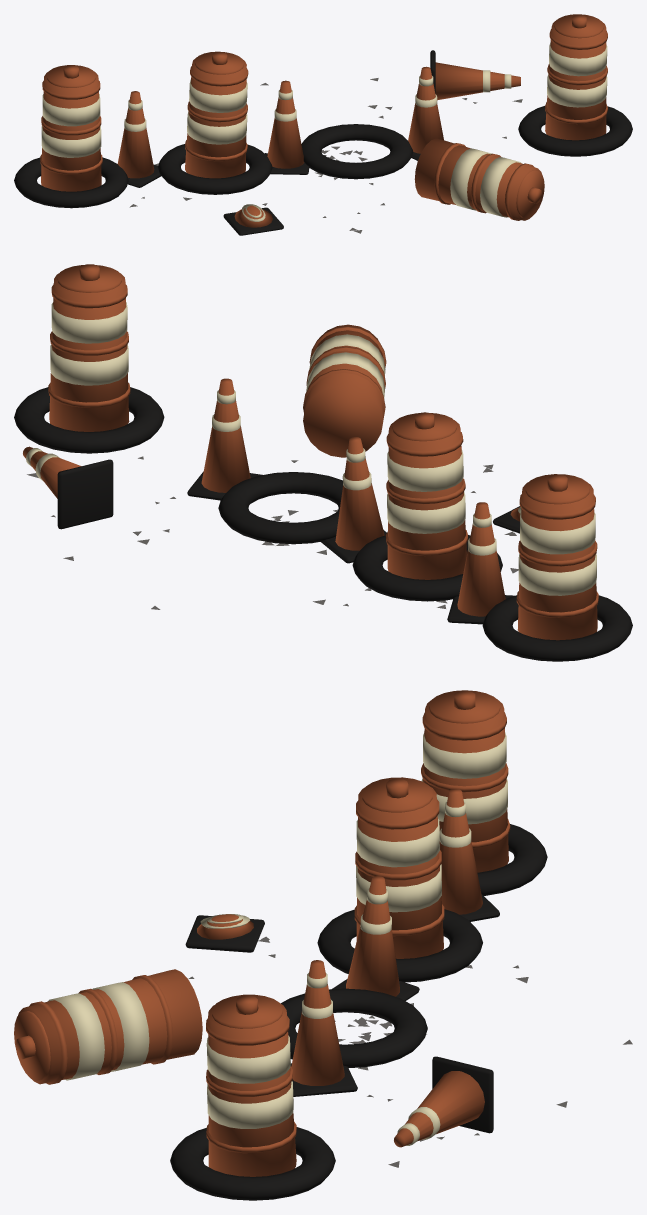
Rendered from drums.glb.
3 views of the same model, one above another, from view 1: azimuth 30°, elevation 25°; view 2: azimuth 150°, elevation 25°; view 3: azimuth 270°, elevation 25° (orthographic). The views are drawn at different scales.
Parts seen in each view (by area): view 1: ring_empty, drum_2, drum_1, drum_0, drum_3, drum_0_ring, drum_1_ring, drum_3_ring, cone_1, cone_4, cone_0, cone_2 (+23 smaller); view 2: drum_2, drum_3, drum_1, drum_0, ring_empty, drum_3_ring, drum_0_ring, cone_4_base, drum_1_ring, cone_0, cone_2, cone_1 (+16 smaller); view 3: drum_2, drum_3, drum_3_ring, drum_1, ring_empty, drum_0, drum_1_ring, cone_2, cone_1, cone_0, cone_4, drum_0_ring (+17 smaller).
Boxes of the visible parts, x1,y1,x2,y2 form: ring_empty: (301, 124, 413, 179); drum_2: (414, 138, 541, 220); drum_1: (185, 57, 246, 178); drum_0: (41, 71, 101, 191); drum_3: (545, 19, 606, 140); drum_0_ring: (14, 157, 128, 208); drum_1_ring: (158, 144, 272, 194); drum_3_ring: (518, 106, 632, 156); cone_1: (267, 80, 304, 168); cone_4: (435, 62, 520, 100); cone_0: (117, 91, 154, 178); cone_2: (408, 66, 443, 153); drum_2: (303, 324, 383, 457); drum_3: (49, 273, 129, 431); drum_1: (387, 420, 466, 579); drum_0: (517, 482, 597, 640); ring_empty: (218, 472, 342, 544); drum_3_ring: (14, 387, 164, 453); drum_0_ring: (482, 595, 632, 661); cone_4_base: (57, 459, 113, 529); drum_1_ring: (352, 535, 502, 601); cone_0: (457, 502, 505, 616); cone_2: (201, 378, 250, 492); cone_1: (335, 437, 384, 550); drum_2: (18, 969, 202, 1084); drum_3: (208, 1003, 296, 1176); drum_3_ring: (170, 1127, 335, 1200); drum_1: (356, 786, 443, 958); ring_empty: (281, 988, 427, 1068); drum_0: (423, 699, 508, 872); drum_1_ring: (317, 909, 482, 982); cone_2: (291, 960, 344, 1085); cone_1: (346, 876, 399, 996); cone_0: (439, 789, 482, 914); cone_4: (394, 1071, 484, 1147); drum_0_ring: (477, 824, 547, 895).
Bounding box in the file's own units: 4.8 × 1.06 × 3.36.
